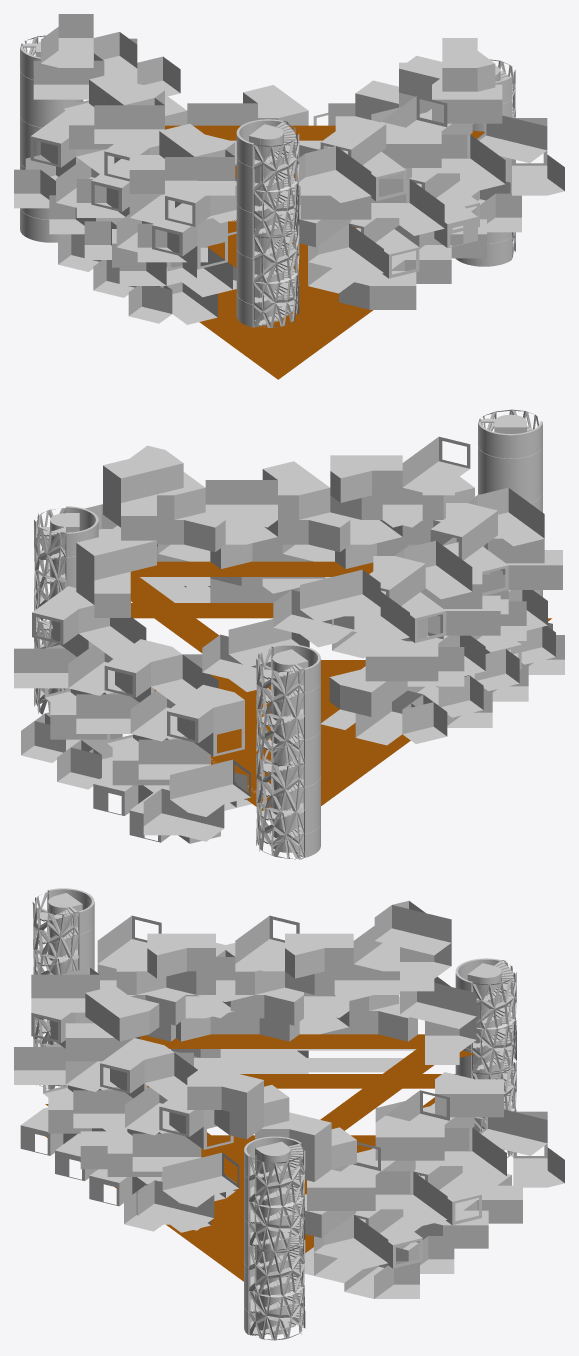
3 views of the same model, one above another, from view 1: azimuth 30°, elevation 25°; view 2: azimuth 150°, elevation 25°; view 3: azimuth 270°, elevation 25° (orthographic). The views are drawn at different scales.
Visible parts, largest first — view 1: Geom3D_Component#36 (×44), Geom3D_Component#24 (×12), Geom3D_Component#4 (×6), Geom3D (×5), Geom3D_skp65C8 (×4), Geom3D_ (×7); view 2: Geom3D_Component#36 (×56), Geom3D_Component#4 (×8), Geom3D_Component#24 (×14), Geom3D (×6), Geom3D_skp65C8 (×6), Geom3D_ (×8); view 3: Geom3D_Component#36 (×57), Geom3D_Component#4 (×8), Geom3D_Component#24 (×9), Geom3D (×5), Geom3D_skp65C8 (×9), Geom3D_ (×8).
Boxes of the visible parts, <box> form: Geom3D_Component#36 (×44): <box>30,53,564,297</box>; Geom3D_Component#24 (×12): <box>14,155,521,324</box>; Geom3D_Component#4 (×6): <box>41,14,495,119</box>; Geom3D (×5): <box>165,125,484,379</box>; Geom3D_skp65C8 (×4): <box>253,121,299,328</box>; Geom3D_ (×7): <box>20,70,511,320</box>; Geom3D_Component#36 (×56): <box>14,436,562,841</box>; Geom3D_Component#4 (×8): <box>76,445,380,691</box>; Geom3D_Component#24 (×14): <box>21,544,564,843</box>; Geom3D (×6): <box>130,561,551,805</box>; Geom3D_skp65C8 (×6): <box>34,508,304,859</box>; Geom3D_ (×8): <box>50,421,542,852</box>; Geom3D_Component#36 (×57): <box>14,915,564,1282</box>; Geom3D_Component#4 (×8): <box>187,901,476,1181</box>; Geom3D_Component#24 (×9): <box>20,1107,522,1298</box>; Geom3D (×5): <box>45,1034,455,1281</box>; Geom3D_skp65C8 (×9): <box>32,891,516,1340</box>; Geom3D_ (×8): <box>47,888,501,1334</box>.
Size of the model in its own units: 58.72 by 35.24 by 64.01.
